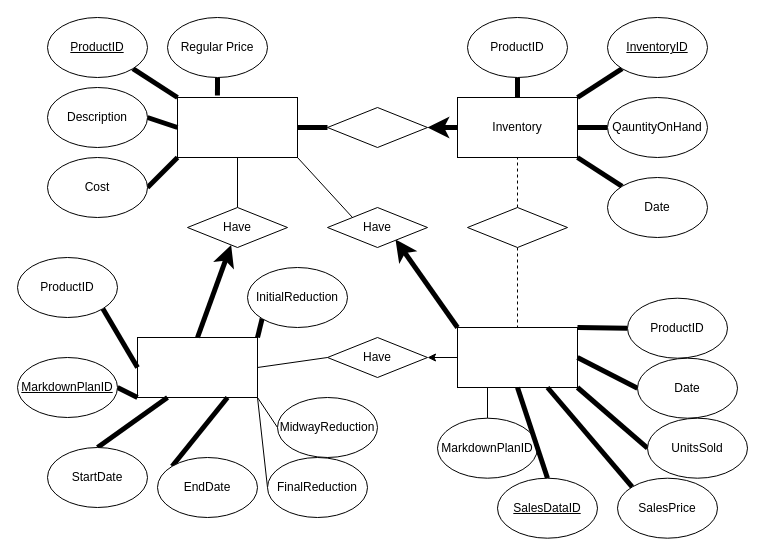
Some shapes in this 765 by 556 pixel diagram are drawn without their labels. The shapes that lost their labels are listed below. From the top down, each one's centre as x and y in pixels, then its label:
point 237,127: Products
point 377,127: Makeup
point 517,227: Effects
point 197,367: Markdown_Plans
point 517,357: Sales_Data
